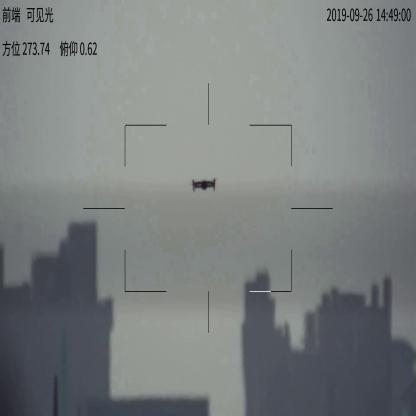uav: (186, 174, 221, 195)
